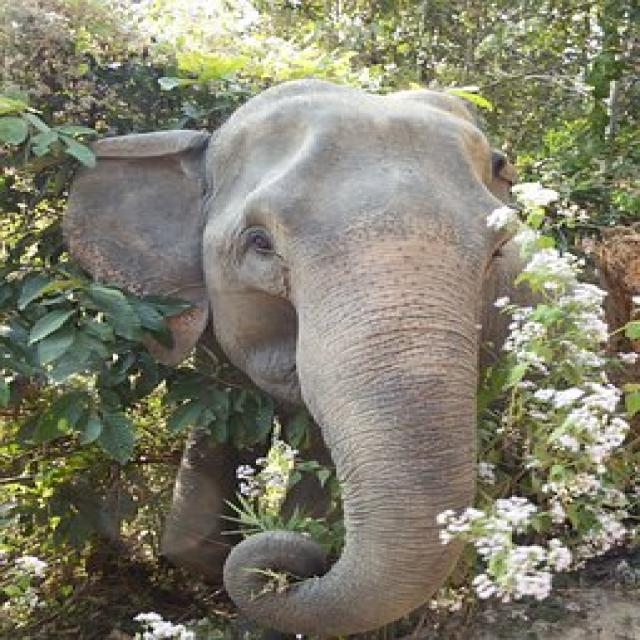Elephant: (66, 42, 582, 640)
